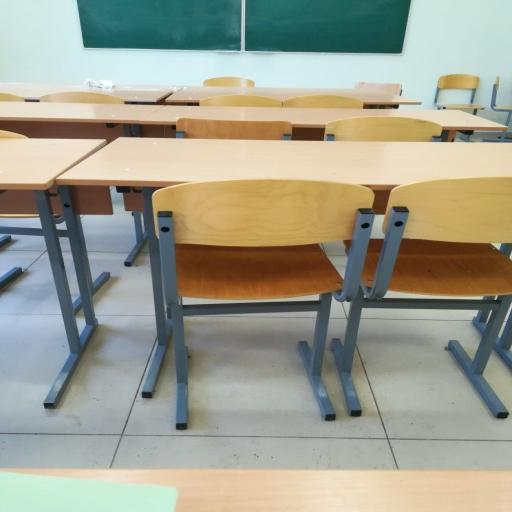bottle: (153, 180, 374, 430), (332, 177, 512, 418)
phone: (56, 138, 512, 397), (0, 138, 109, 408), (0, 102, 163, 124)
